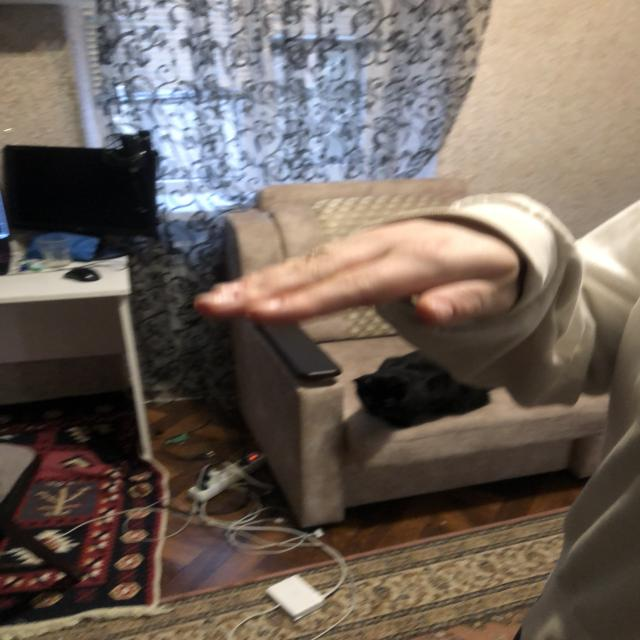paper: (196, 230, 517, 326)
